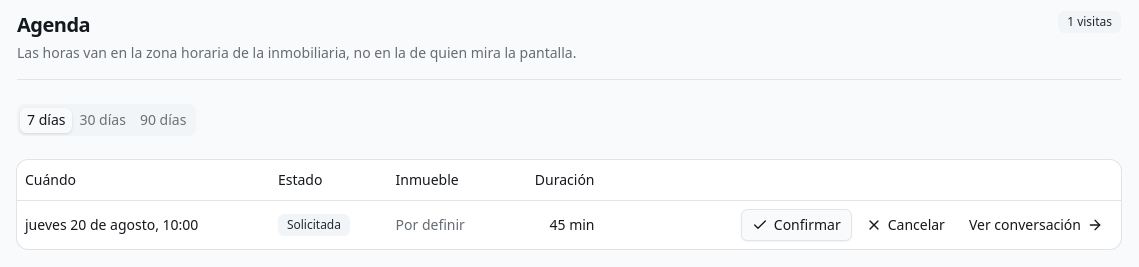
Test case: Agenda de visitas › confirmar actualiza la fila con lo que respondió el servidor
The image size is (1139, 267).
Click the button "Confirmar".
click(796, 224)  # box [741,208,852,240]
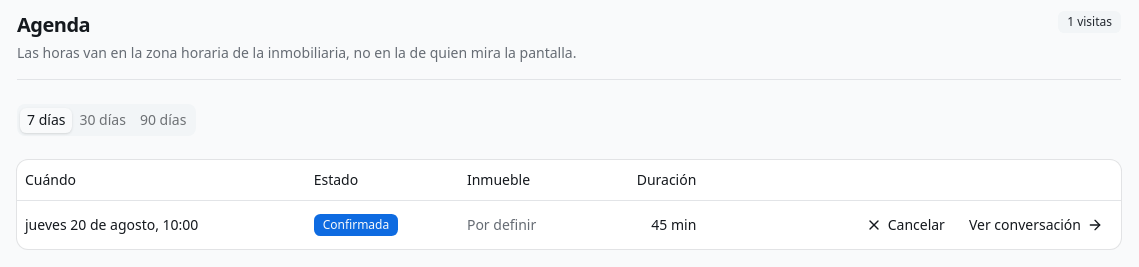
Now the text "Confirmada" is shown, box [314,214,398,236]
Now the button "Confirmar" is gone
